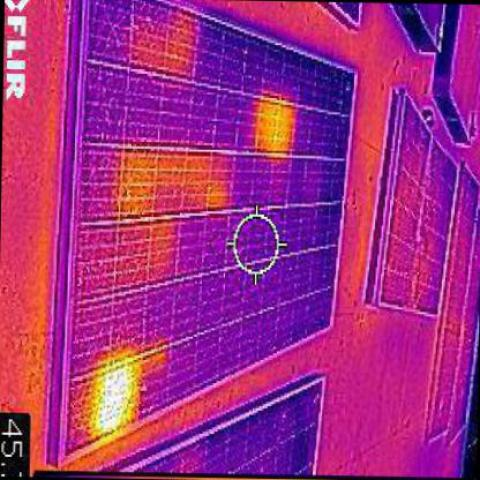fault: (90, 358, 140, 424), (257, 101, 295, 151)
